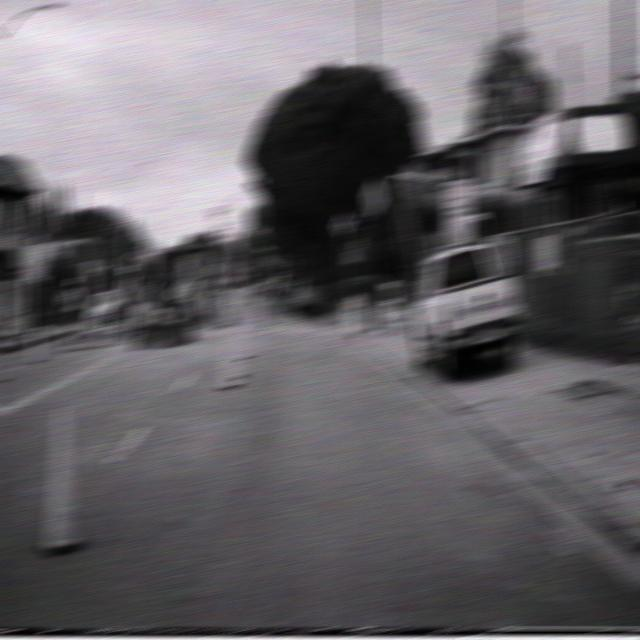pedestrianCrossing: (333, 210, 352, 235)
